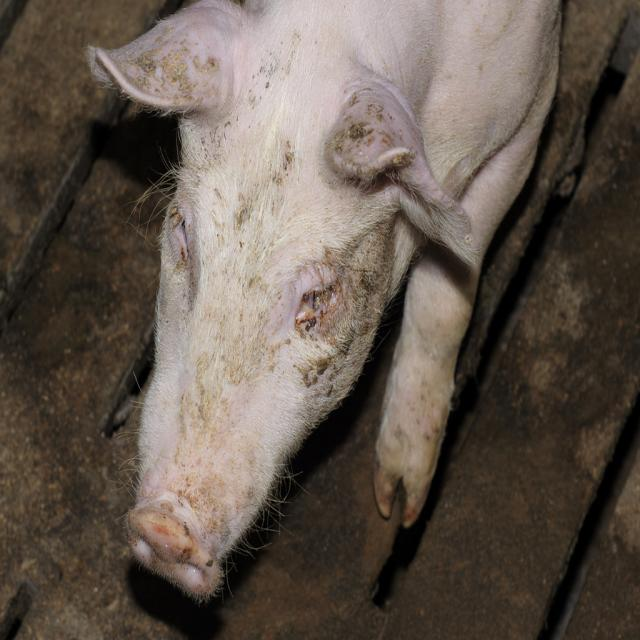Pig: (78, 0, 564, 606)
